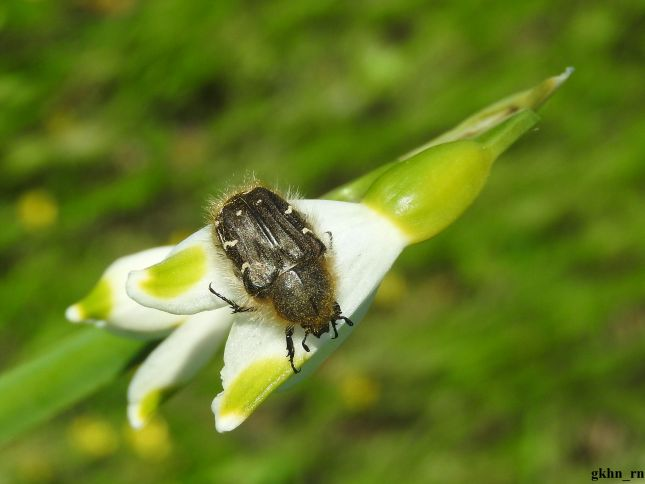Tropinota_hirta: (202, 173, 361, 373)
